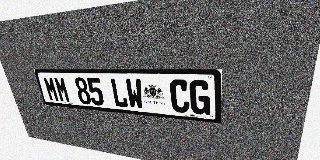5: (86, 77, 105, 106)
8: (74, 77, 92, 105)
C: (169, 79, 190, 113)
G: (189, 80, 210, 115)
L: (109, 78, 129, 108)
M: (42, 76, 60, 102), (53, 77, 71, 103)
W: (125, 78, 144, 109)
